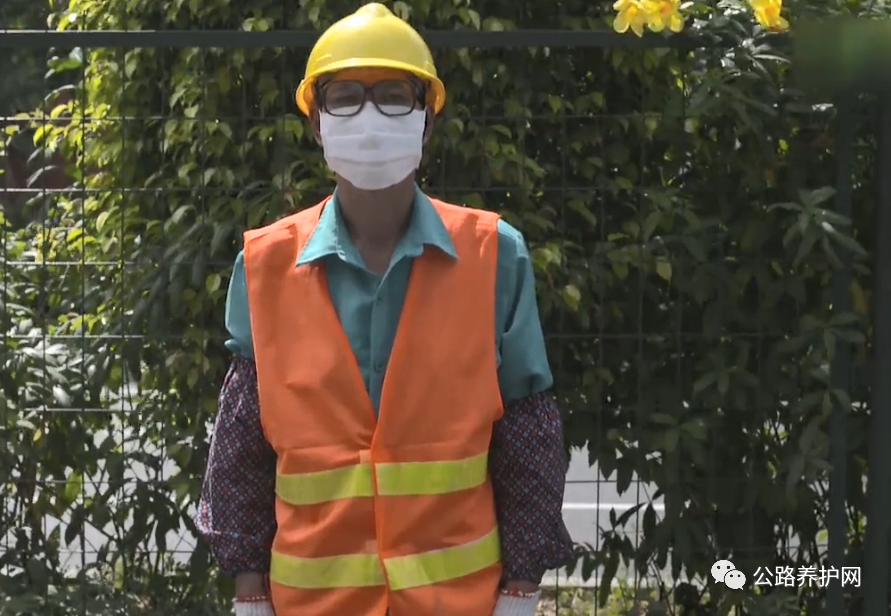person: (192, 1, 574, 616)
reflective_vest: (240, 193, 506, 616)
safety_helmet: (293, 1, 450, 194)
